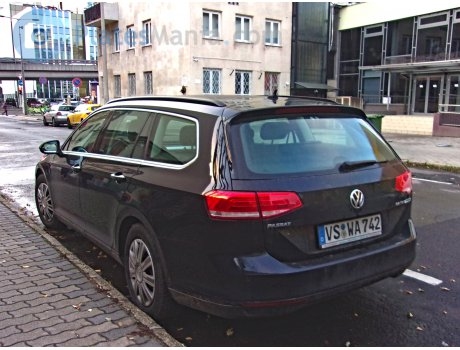License Plates: (323, 222, 382, 236)
